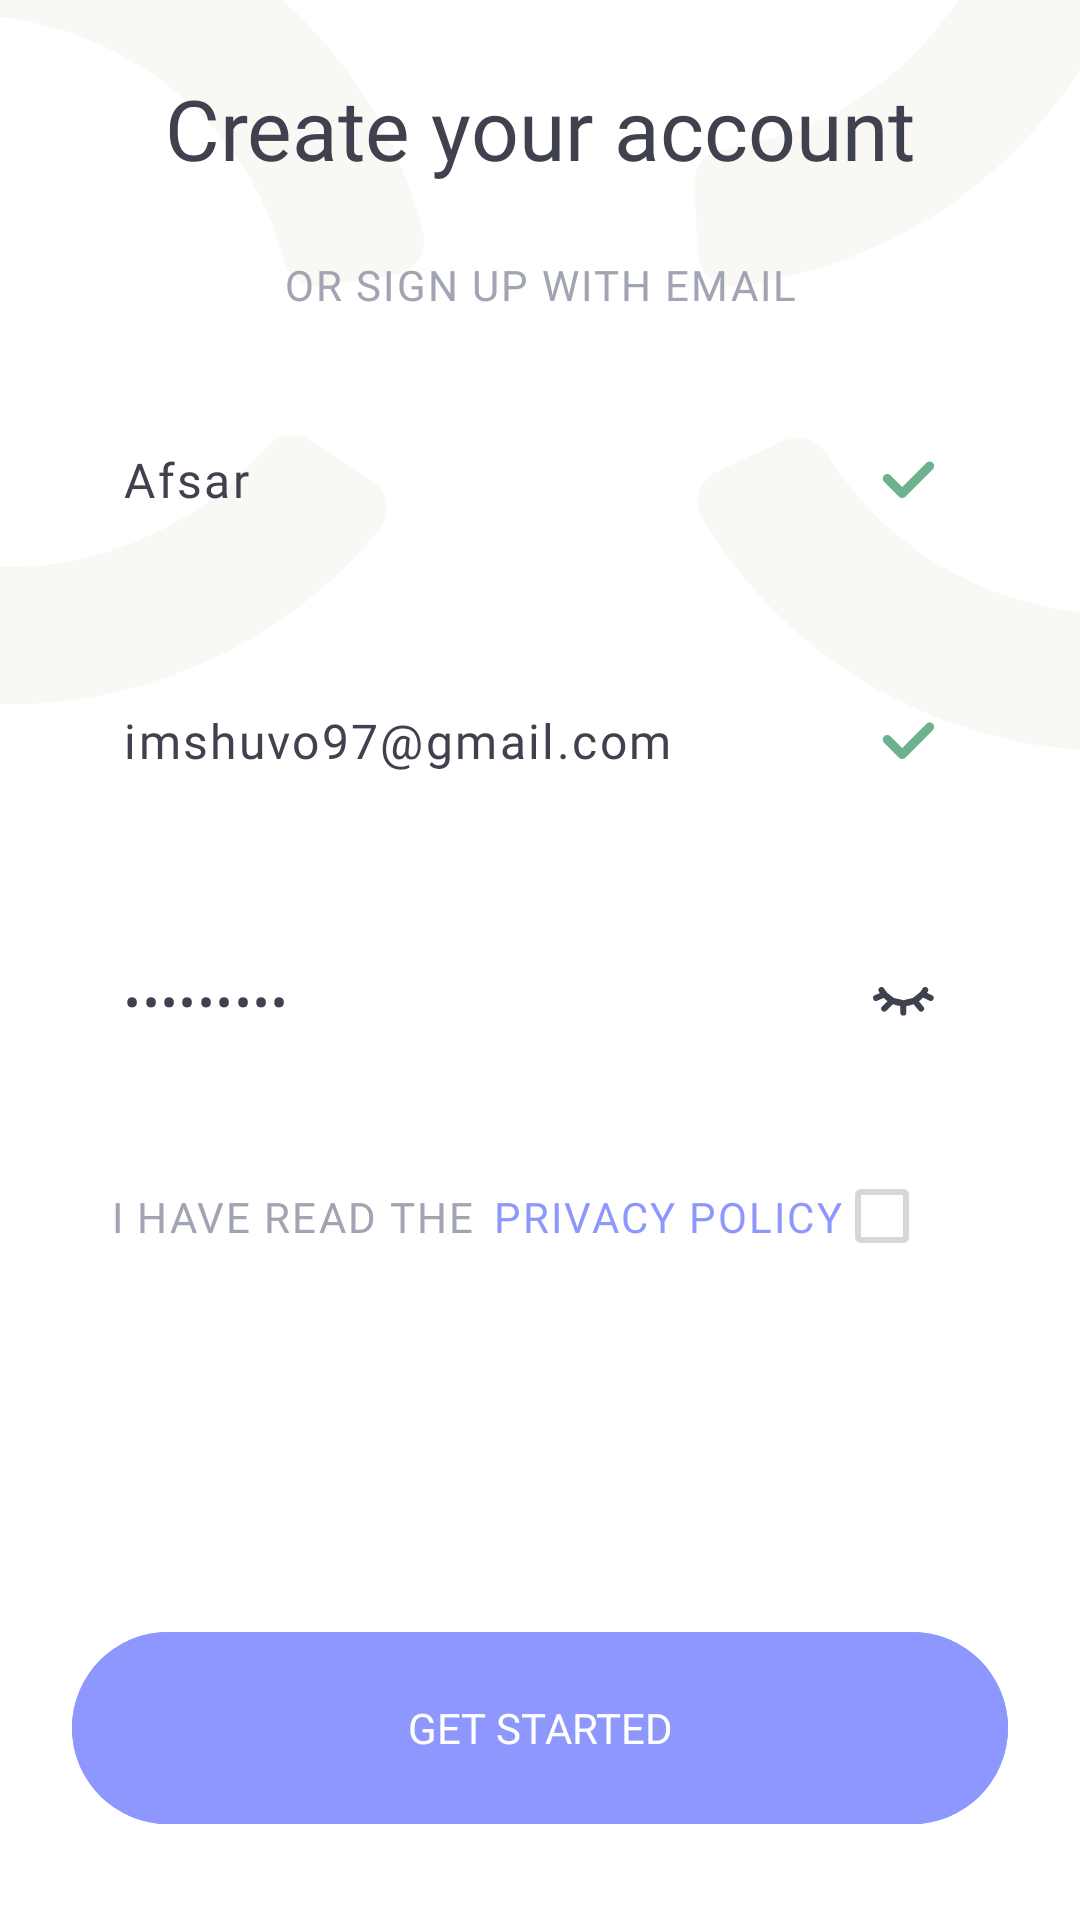

Icon bounding boxes for this 1080x1920 phone screenshot, format (x1, y1, x2, y2):
check: (882, 461, 934, 498), (882, 722, 934, 759)
closed eye: (873, 987, 934, 1016)
